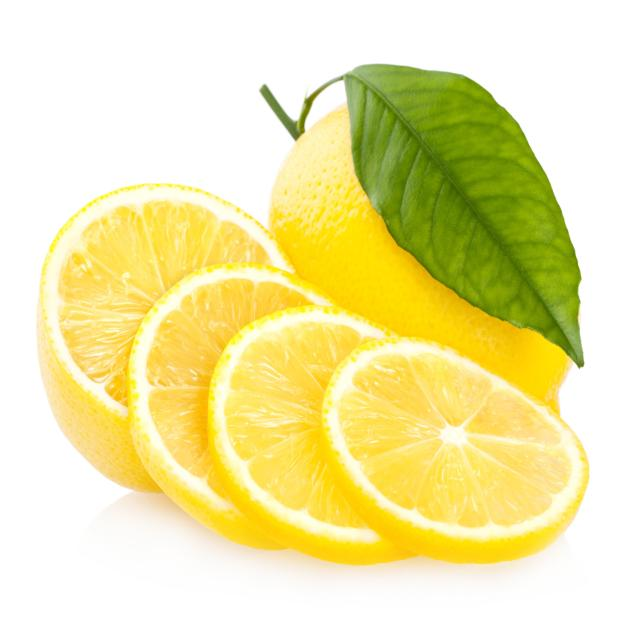lemon: (262, 84, 574, 418), (30, 185, 295, 499)
